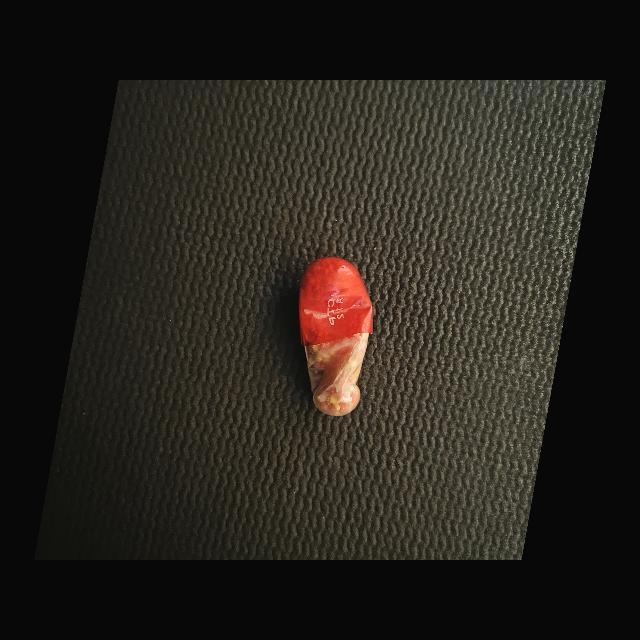Defective Capsule: (299, 258, 373, 416)
